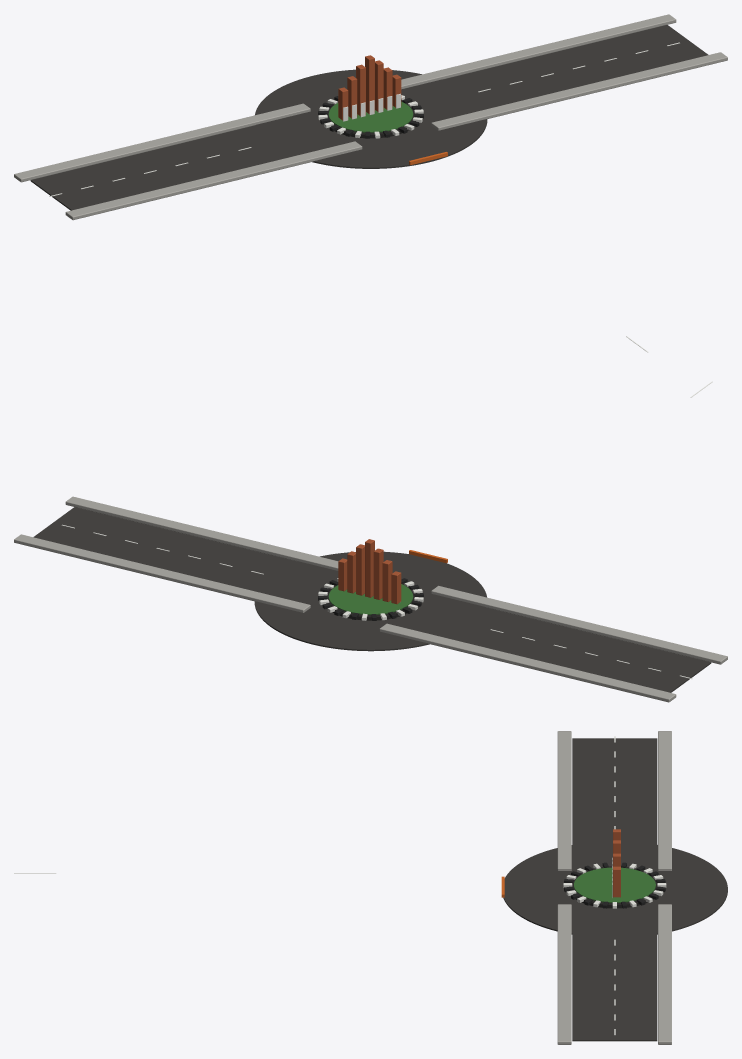
Rendered from junction.fbx.
The picture shows the model from 3 angles, top to bottom: view 1: azimuth 30°, elevation 25°; view 2: azimuth 150°, elevation 25°; view 3: azimuth 270°, elevation 25°; orthographic projection. The views are drawn at different scales.
Visible parts, largest first — view 1: Left_Side_Road, Right_Side_Road, Rounded_Traffic_Junction, Left_Road_Bottom_Footpath, Right_Road_Bottom_Footpath, Left_Road_Top_Footpath, Right_Road_Top_Footpath, Traffic_Island_Inner; view 2: Left_Side_Road, Right_Side_Road, Rounded_Traffic_Junction, Left_Road_Top_Footpath, Right_Road_Top_Footpath, Left_Road_Bottom_Footpath, Right_Road_Bottom_Footpath, Traffic_Island_Inner, Brick_Pillar_3; view 3: Right_Side_Road, Left_Side_Road, Rounded_Traffic_Junction, Right_Road_Bottom_Footpath, Left_Road_Bottom_Footpath, Traffic_Island_Inner, Right_Road_Top_Footpath, Left_Road_Top_Footpath.
Boxes of the visible parts, box(x1,y1,x2,y2) form: Left_Side_Road: box(30, 111, 357, 210); Right_Side_Road: box(401, 25, 708, 124); Rounded_Traffic_Junction: box(255, 69, 487, 168); Left_Road_Bottom_Footpath: box(65, 141, 362, 220); Right_Road_Bottom_Footpath: box(431, 52, 727, 130); Left_Road_Top_Footpath: box(14, 103, 310, 182); Right_Road_Top_Footpath: box(401, 14, 676, 89); Traffic_Island_Inner: box(328, 102, 413, 132); Left_Side_Road: box(384, 593, 711, 692); Right_Side_Road: box(33, 507, 338, 606); Rounded_Traffic_Junction: box(254, 551, 486, 651); Left_Road_Top_Footpath: box(379, 623, 676, 702); Right_Road_Top_Footpath: box(14, 534, 310, 612); Left_Road_Bottom_Footpath: box(431, 585, 727, 664); Right_Road_Bottom_Footpath: box(65, 496, 338, 570); Traffic_Island_Inner: box(328, 584, 413, 614); Brick_Pillar_3: box(365, 539, 374, 597); Right_Side_Road: box(572, 905, 657, 1041); Left_Side_Road: box(572, 738, 657, 871); Rounded_Traffic_Junction: box(503, 841, 727, 934); Right_Road_Bottom_Footpath: box(557, 904, 571, 1044); Left_Road_Bottom_Footpath: box(557, 731, 571, 870); Traffic_Island_Inner: box(574, 867, 655, 902); Right_Road_Top_Footpath: box(658, 904, 671, 1044); Left_Road_Top_Footpath: box(658, 731, 671, 870).
Bounding box in the file's own units: 10400 × 935 × 10100.
